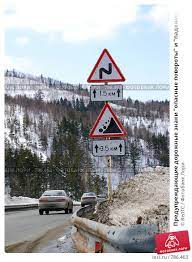1.12.1: (85, 49, 128, 84)
1.26: (89, 103, 127, 137)
